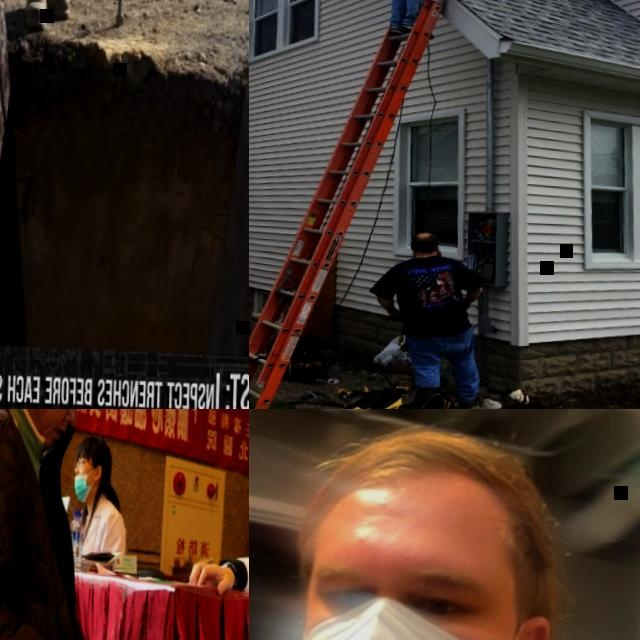Mask: (70, 471, 91, 503)
NO-Hardhat: (307, 421, 554, 543), (77, 433, 114, 462), (409, 231, 436, 245)
NO-Mask: (28, 409, 67, 448)
NO-Safety Vest: (0, 409, 74, 640), (392, 252, 472, 336), (75, 497, 117, 553)
Person: (249, 409, 640, 640), (0, 409, 249, 640), (368, 227, 485, 409), (61, 431, 130, 560), (378, 0, 462, 40)
